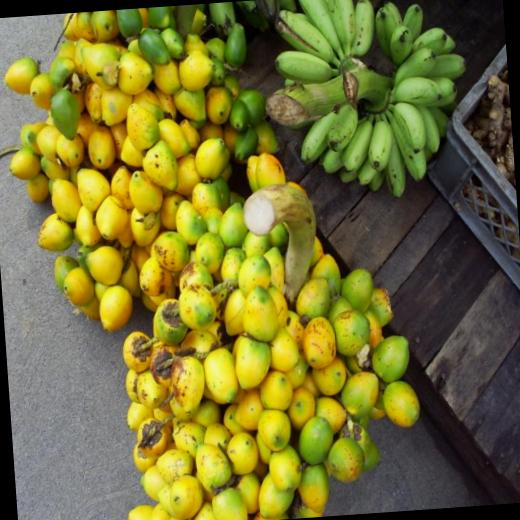Banana: (270, 0, 476, 206), (364, 112, 394, 169)
